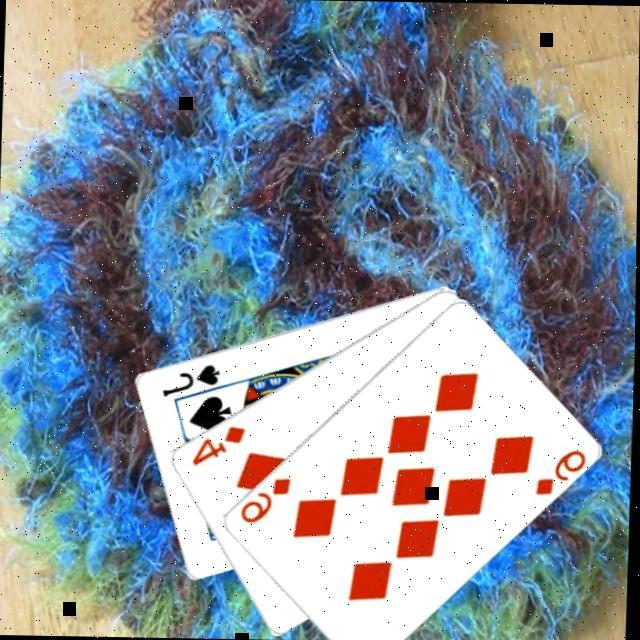4D: (190, 419, 252, 468)
9D: (534, 444, 592, 498), (239, 472, 296, 526)
JS: (162, 358, 224, 399)
